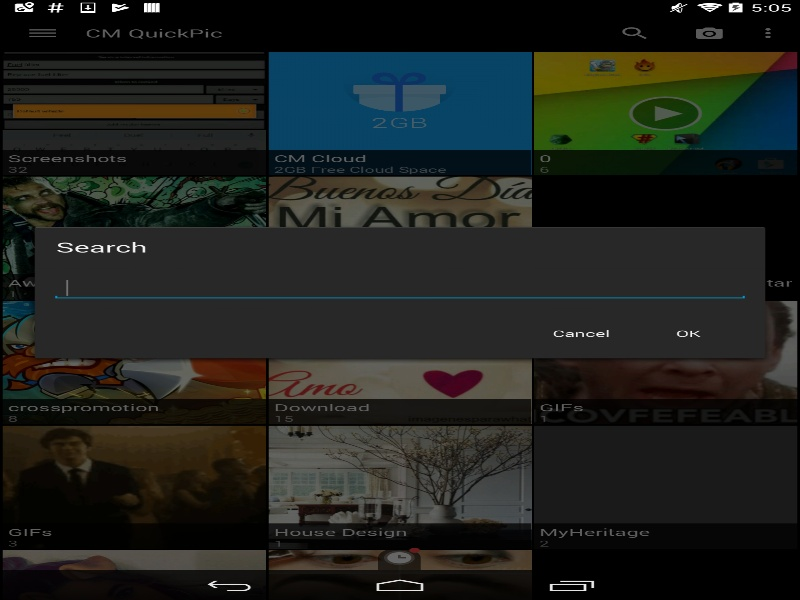Button: (634, 315, 741, 350), (528, 315, 634, 350)
Input: (50, 275, 749, 300)
